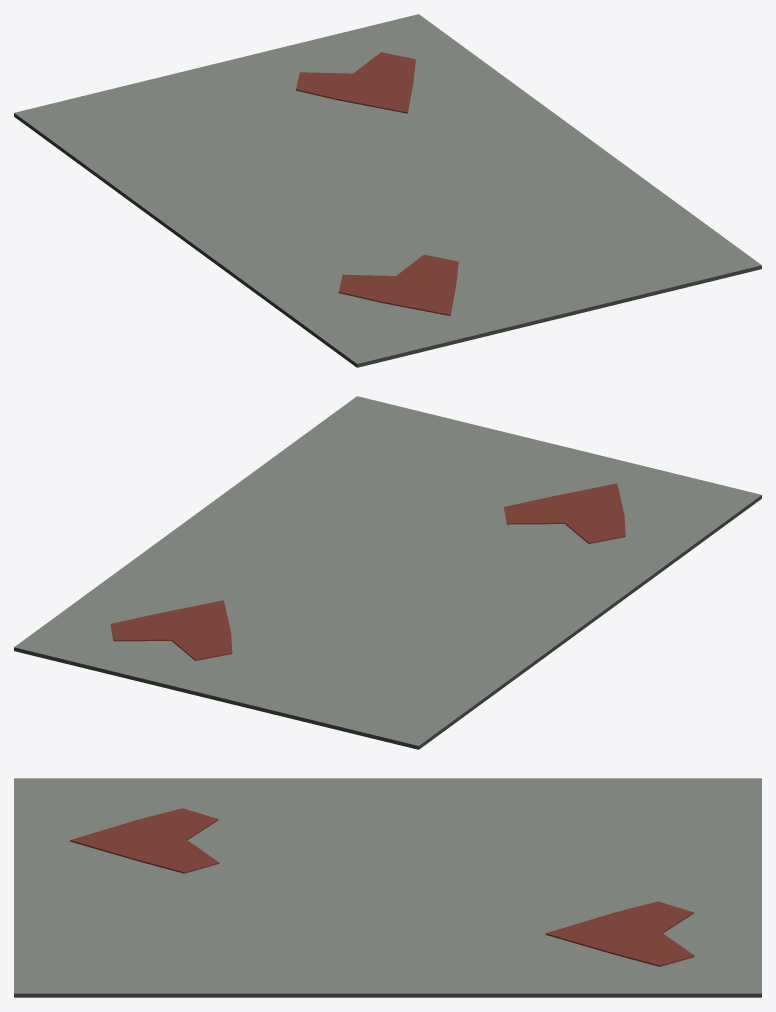
The model's file is human-toys-playing-card_v3.glb.
3 renders of one model, top to bottom at view 1: azimuth 30°, elevation 25°; view 2: azimuth 150°, elevation 25°; view 3: azimuth 270°, elevation 25°, orthographic. The views are drawn at different scales.
Parts seen in each view (by area): view 1: Playing Card_v3; view 2: Playing Card_v3; view 3: Playing Card_v3.
Boxes of the visible parts, left/top/right/bottom form: Playing Card_v3: left=14, top=14, right=761, bottom=367; Playing Card_v3: left=14, top=396, right=761, bottom=749; Playing Card_v3: left=14, top=778, right=761, bottom=997.
Bounding box in the file's own units: 0.0606 × 0.000734 × 0.089.
